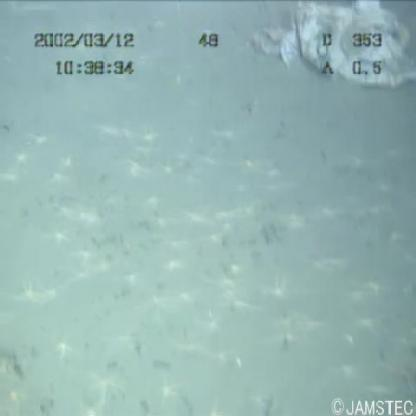Rác: (256, 1, 416, 100)
